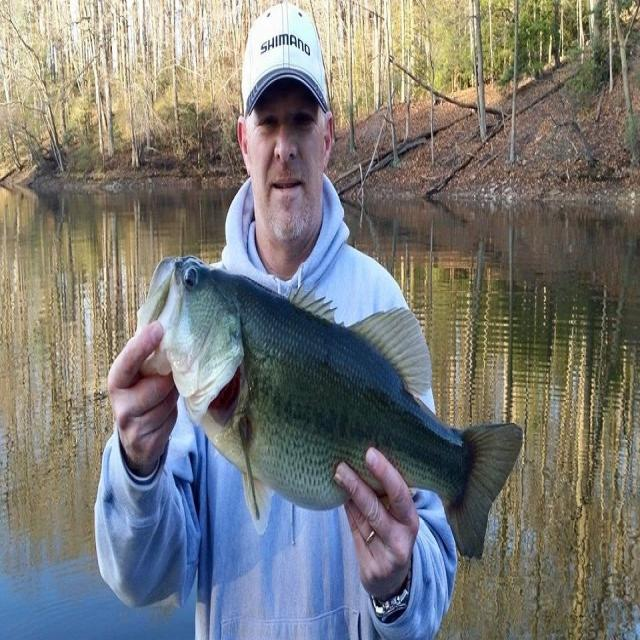Bass - Largemouth: (137, 256, 521, 556)
